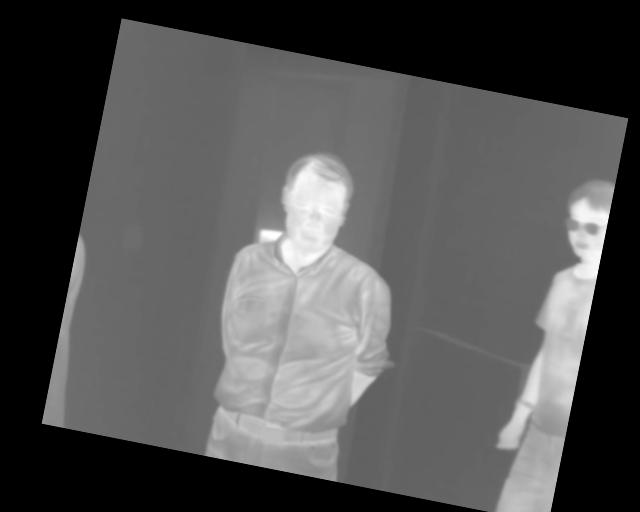face: (270, 144, 362, 263), (558, 173, 615, 262)
